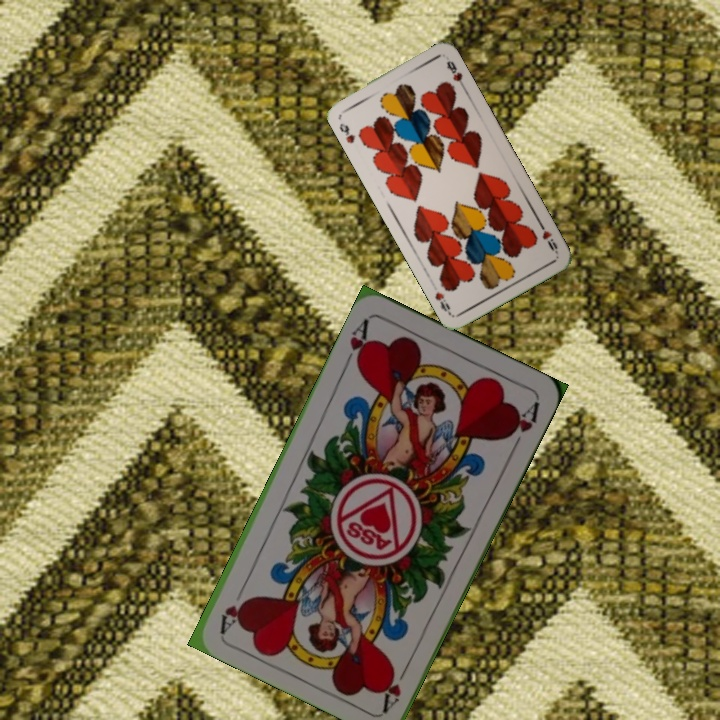H9: (535, 218, 560, 256), (335, 119, 358, 146)
HA: (339, 315, 374, 370), (379, 657, 413, 713)
